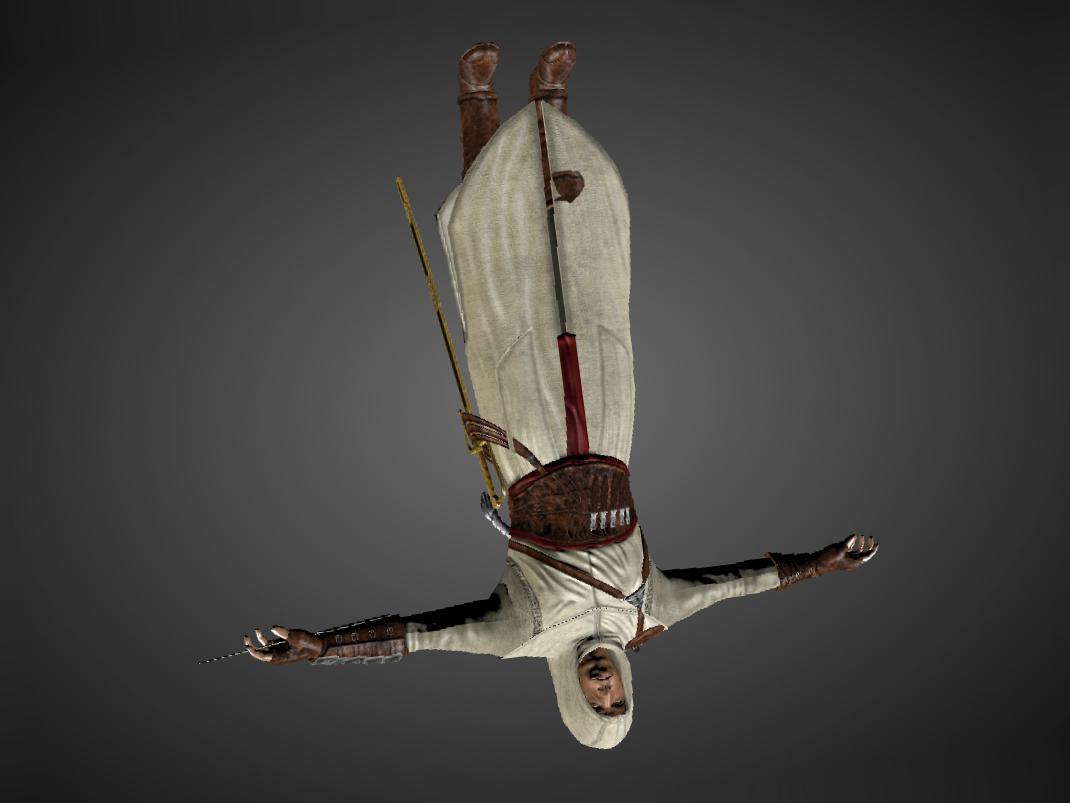clip: (550, 165, 586, 202)
